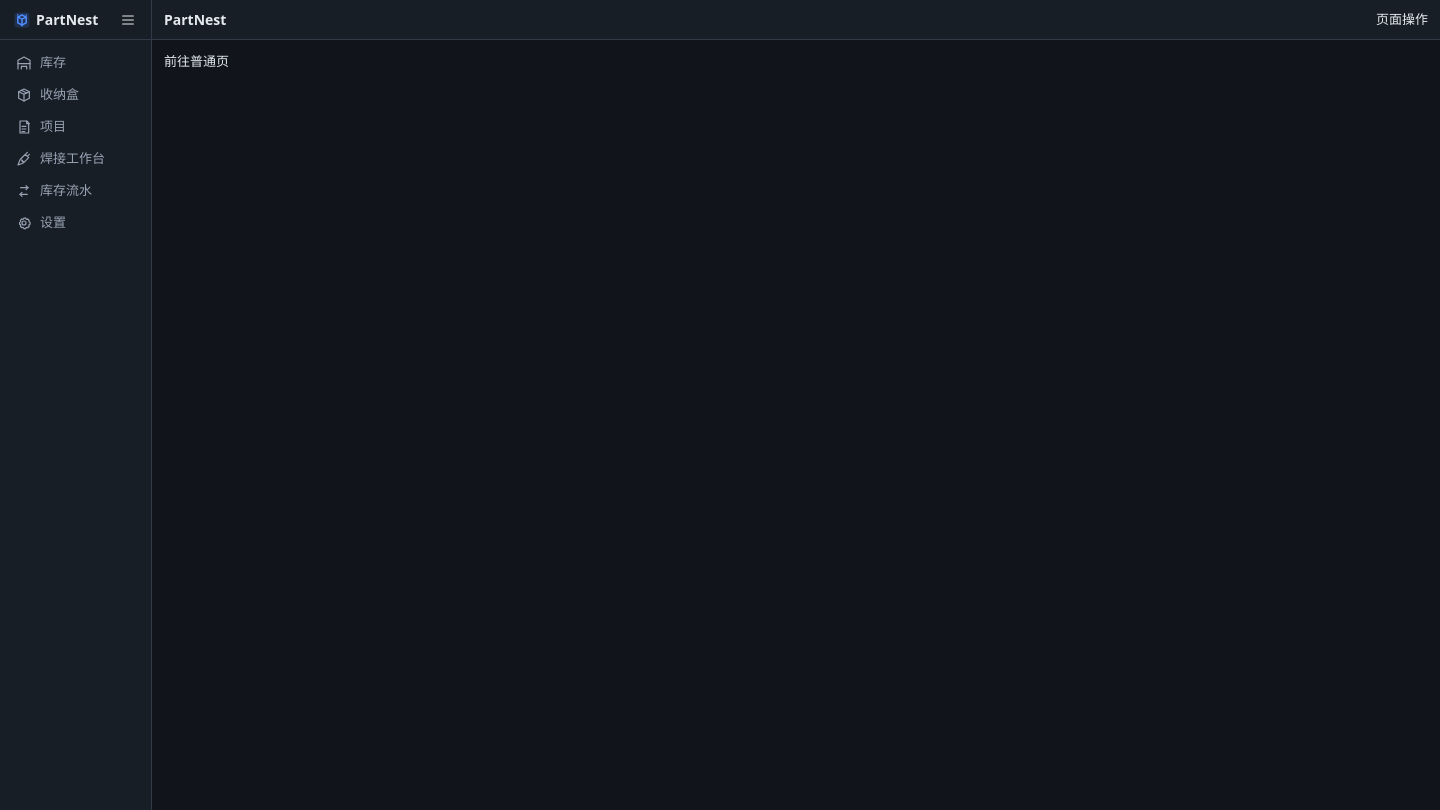
Test: AppShell › cleans page actions when a route is replaced
The image size is (1440, 810).
Expected: the button "页面操作" is shown, [1376,10,1428,29]
Click the link "前往普通页" at (196, 61), box [164,52,229,70]
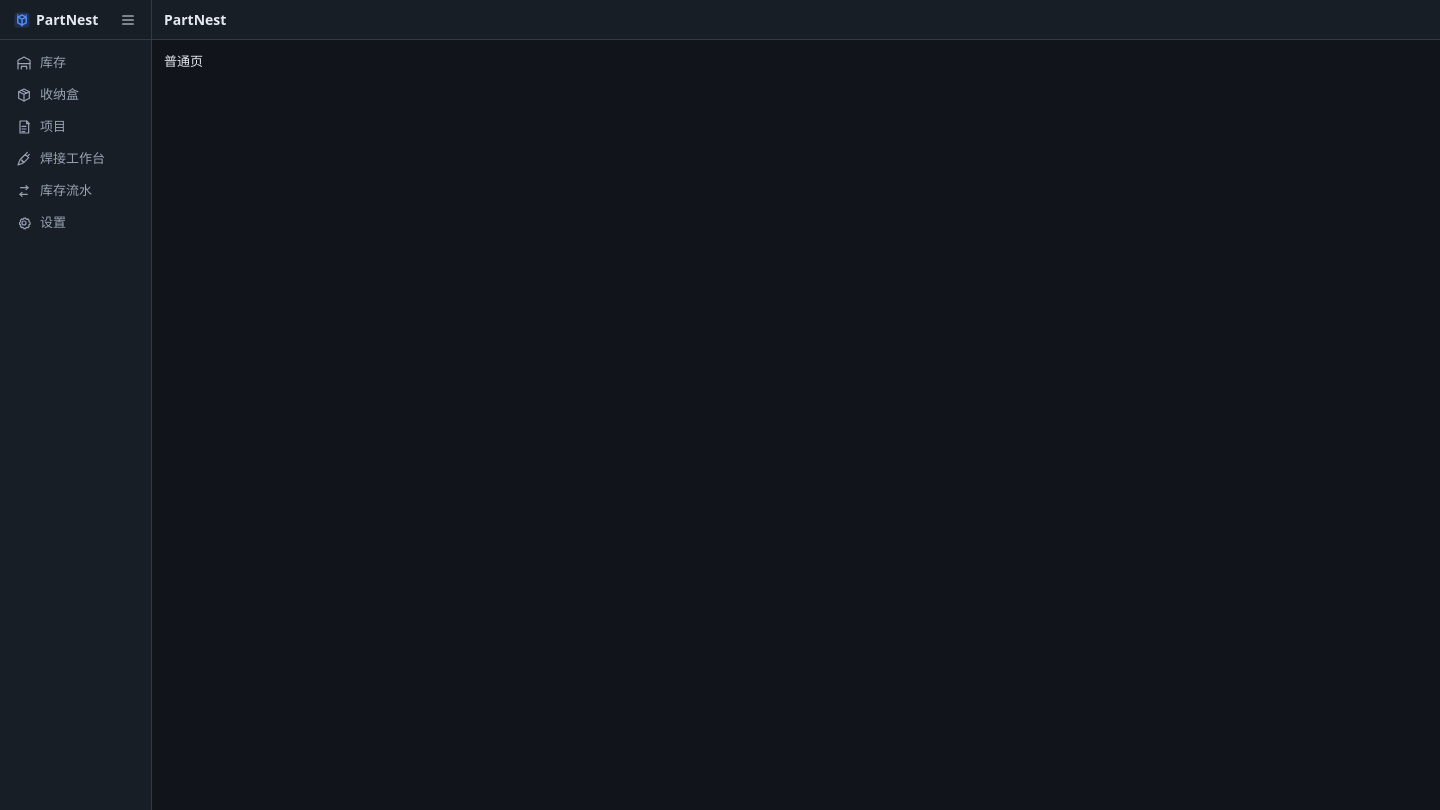
Expected: the button "页面操作" is gone
